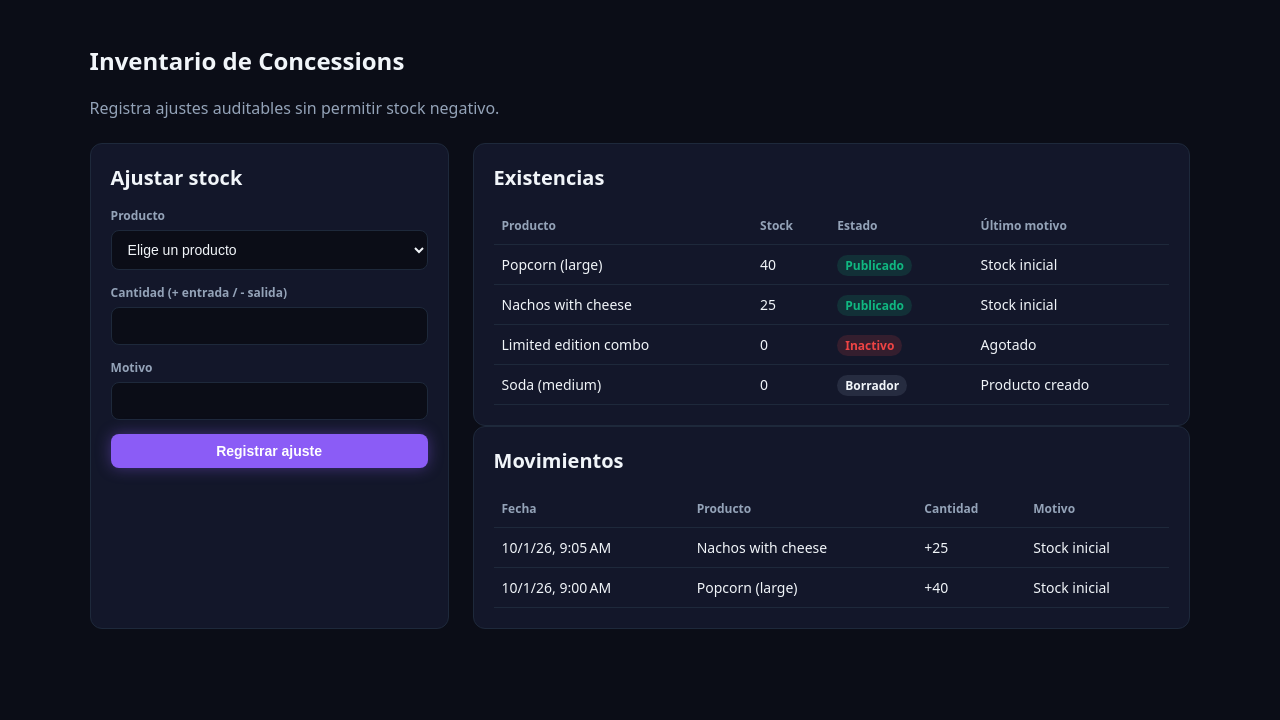
Scenario: InventoryPageComponent › registers an adjustment, updates the stock and lists the movement
The image size is (1280, 720).
Select "Soda (medium)" in the dropdown with id "inventory-product": (269, 250) top-left (111, 230), bottom-right (428, 270)
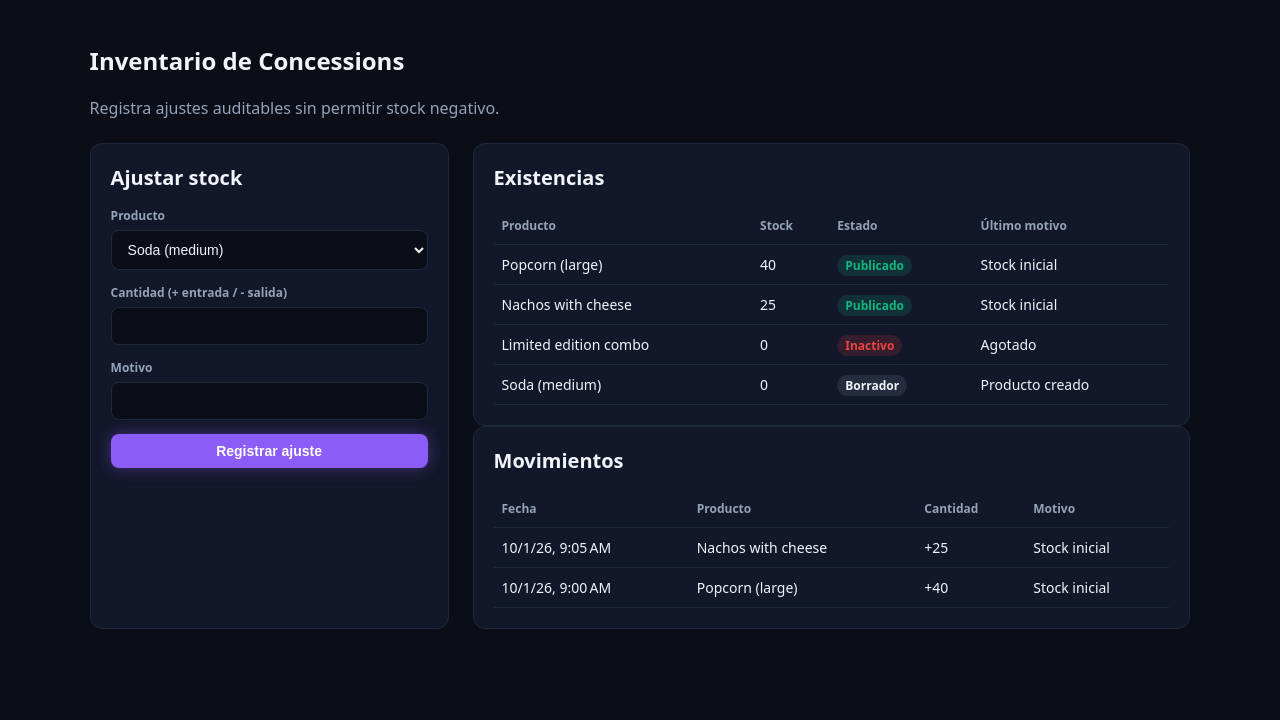
In the number field with id "inventory-quantity": (269, 326) top-left (111, 307), bottom-right (428, 345), type "12"
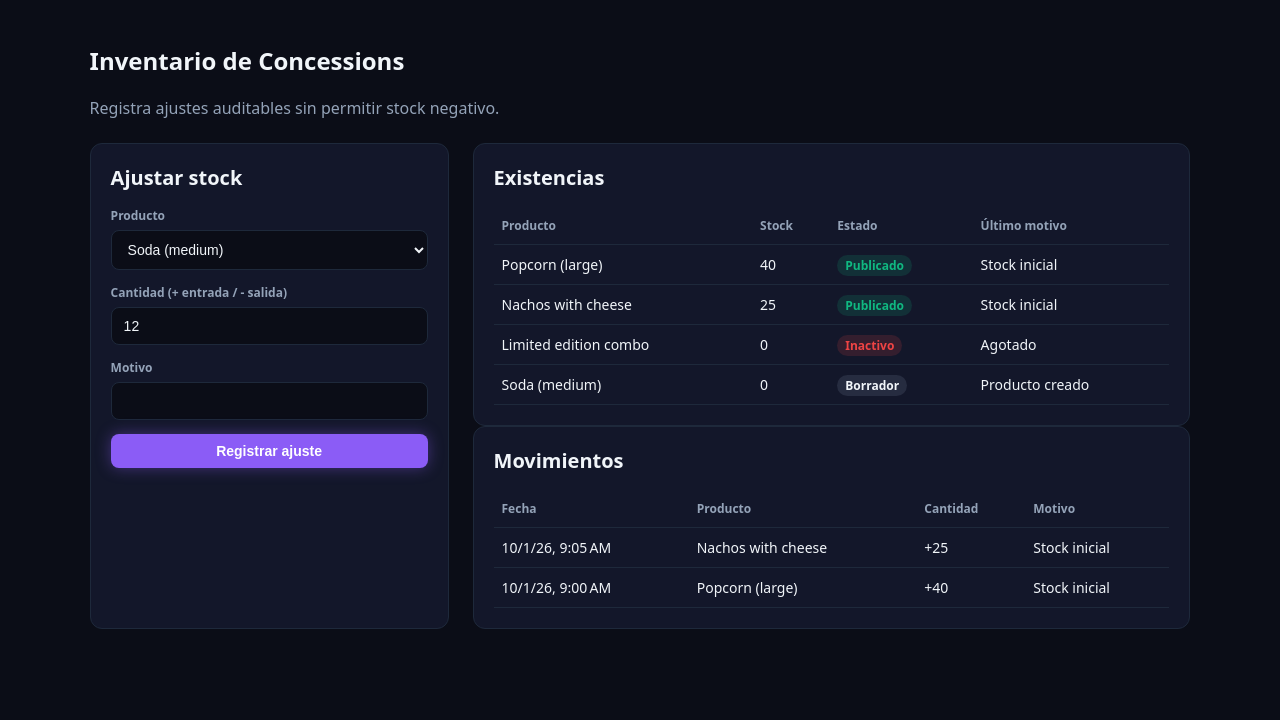
In the field with id "inventory-reason": (269, 401) top-left (111, 382), bottom-right (428, 420), type "Entrega"
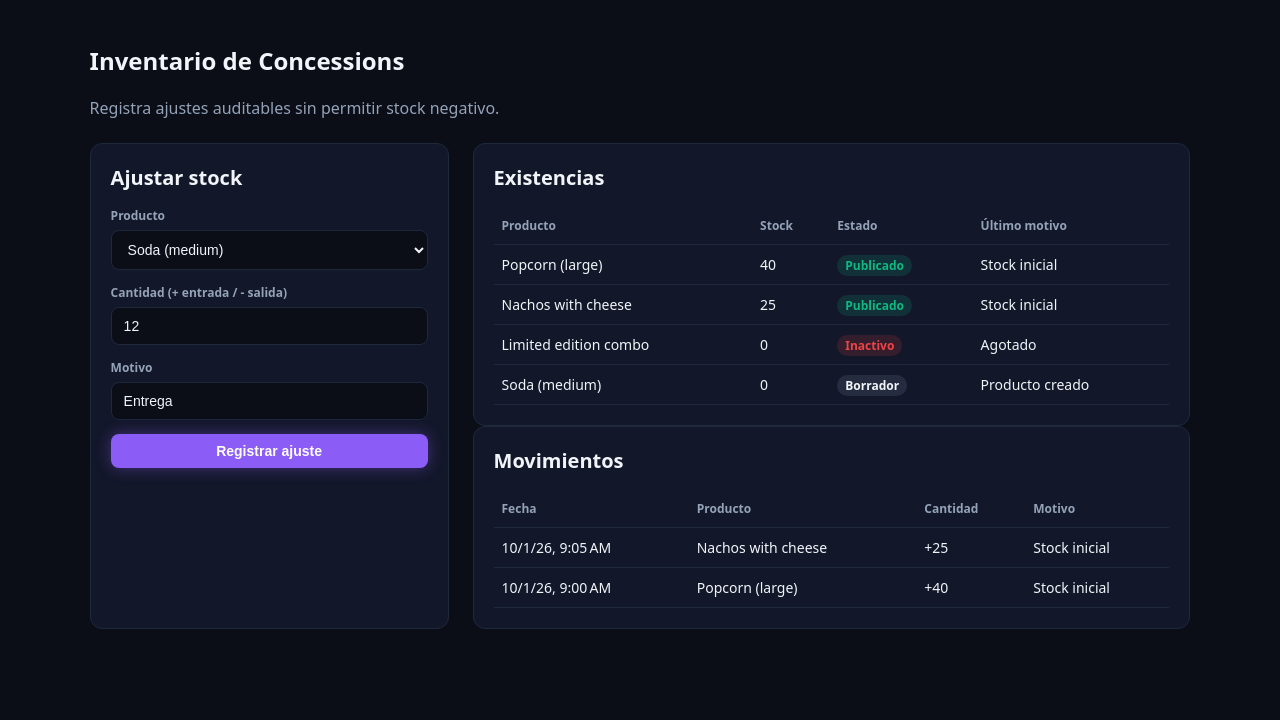
Submit the form, box top-left (111, 207), bottom-right (428, 468)
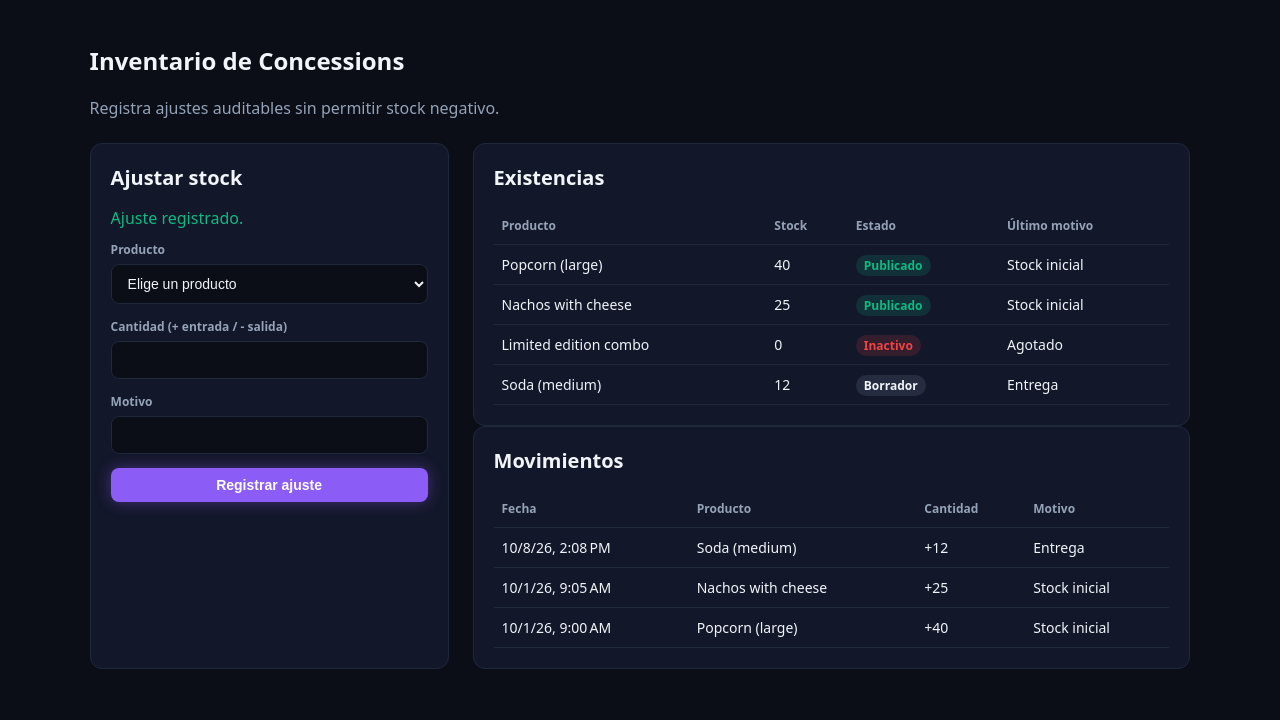
Result: the row with test id "stock-row" shows "12" at top-left (774, 375), bottom-right (790, 394)
Result: the row with test id "stock-row" shows "Entrega" at top-left (1007, 375), bottom-right (1058, 394)
Result: the row with test id "movement-row" shows "Soda (medium)" at top-left (697, 538), bottom-right (796, 557)
